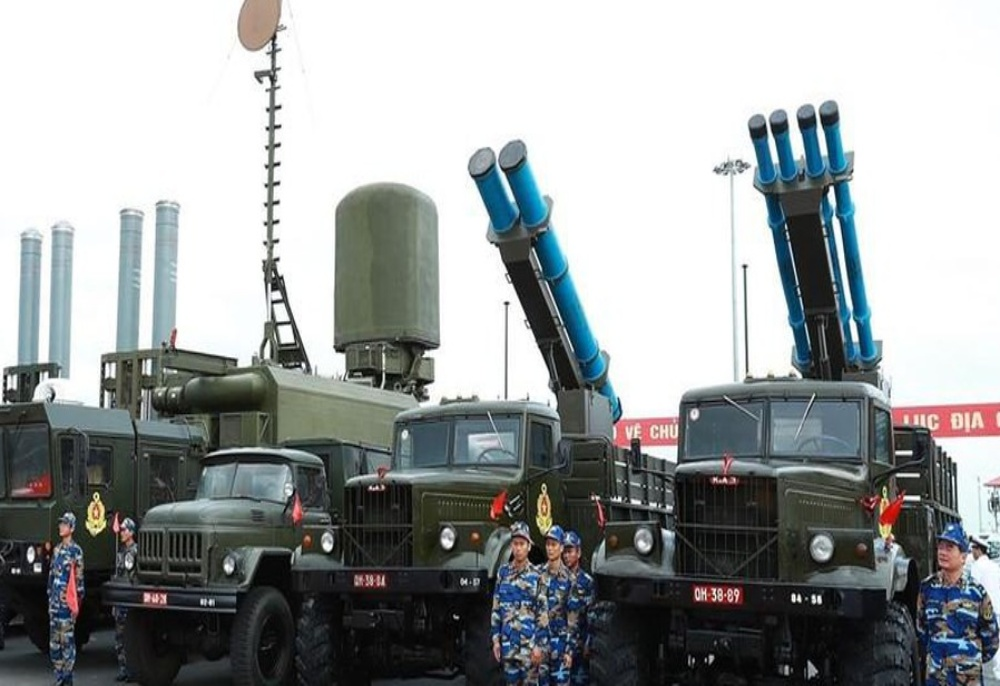plate: (691, 584, 745, 610), (353, 572, 390, 591), (141, 588, 170, 606)
